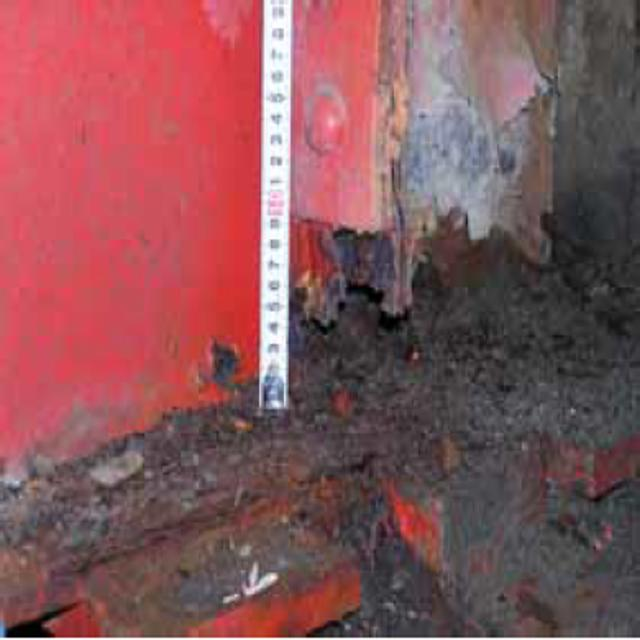corrosion: (274, 164, 584, 436), (26, 377, 263, 612)
